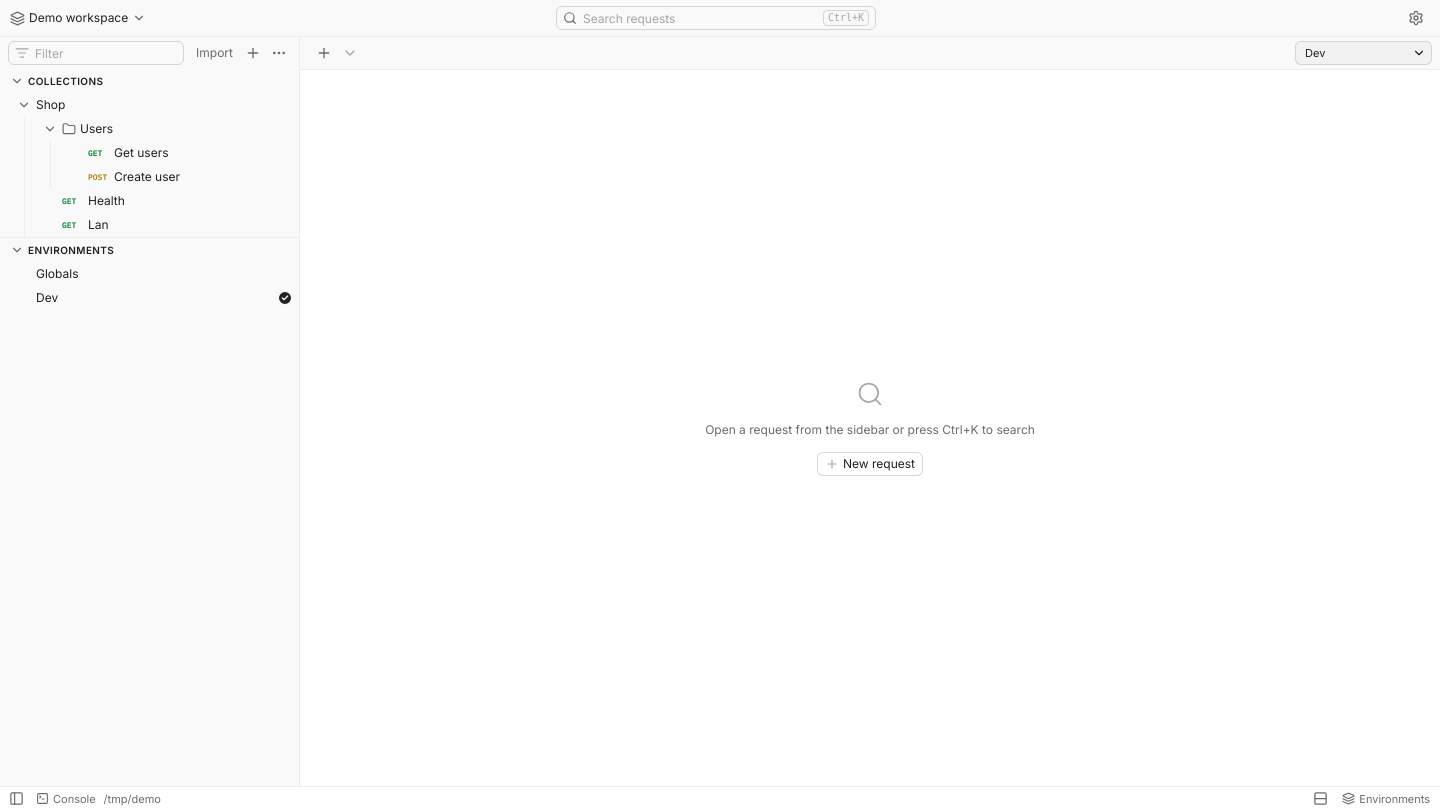
Test: configuration › has the defaults, the environment, the masked targets and the notes
The width and height of the screenshot is (1440, 810).
Right-click the list item "Users".
right_click(112, 152)  # box [43,121,180,184]
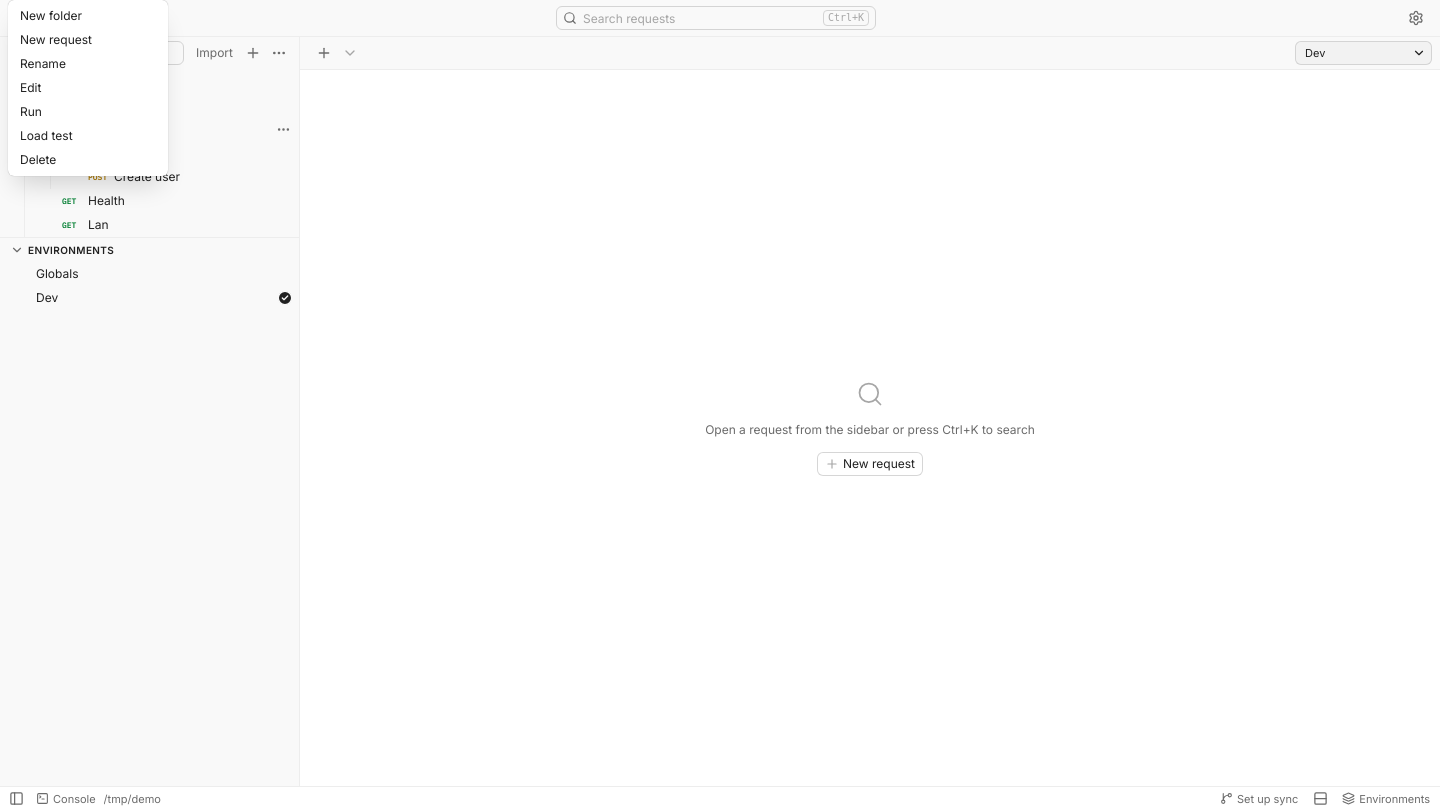
Click the menu item "Load test".
click(88, 136)  # box [12,124,164,148]
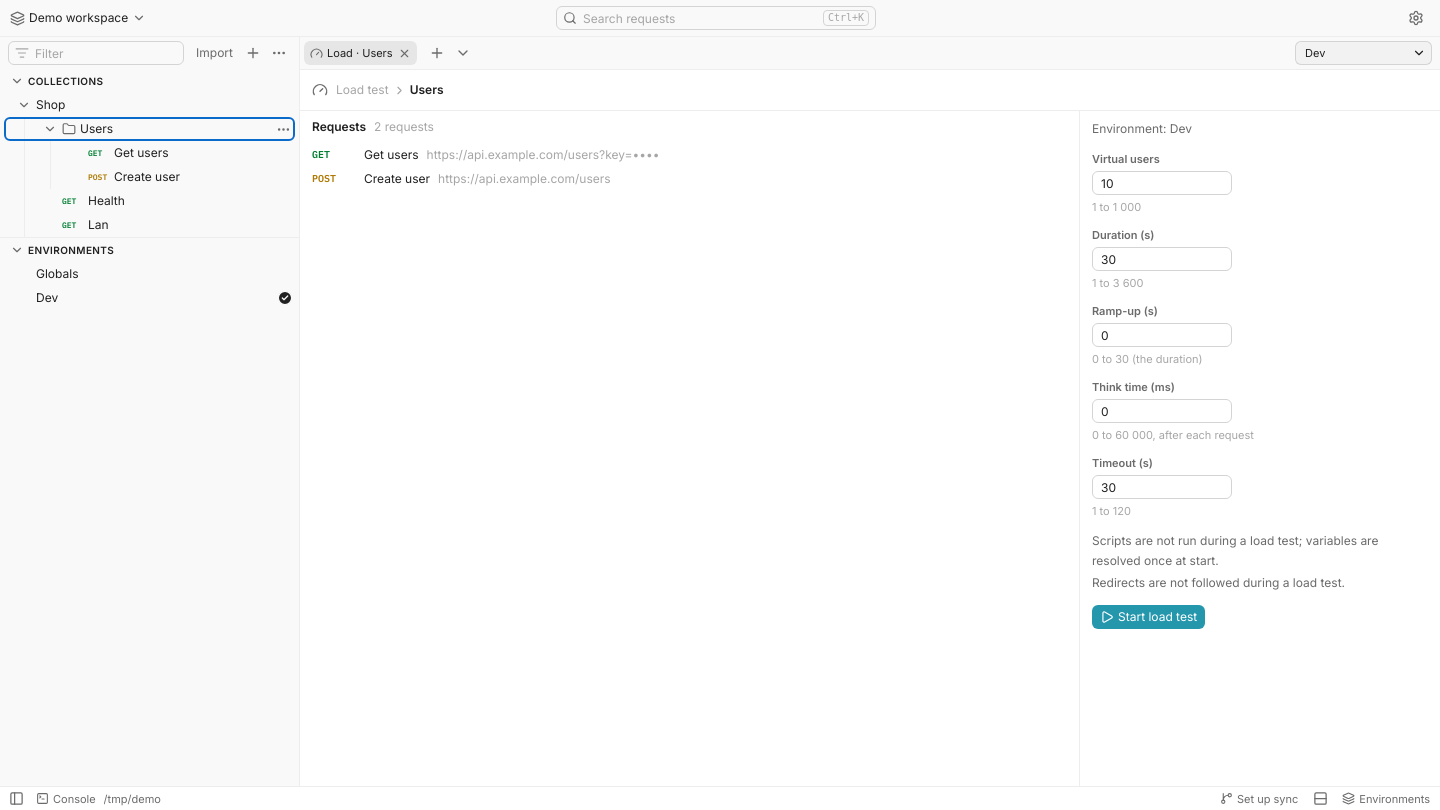
Expected: the number field labelled "Virtual users" holds "10", [1092,171,1232,195]
Expected: the number field labelled "Duration (s)" holds "30", [1092,247,1232,271]
Expected: the number field labelled "Ramp-up (s)" holds "0", [1092,323,1232,347]
